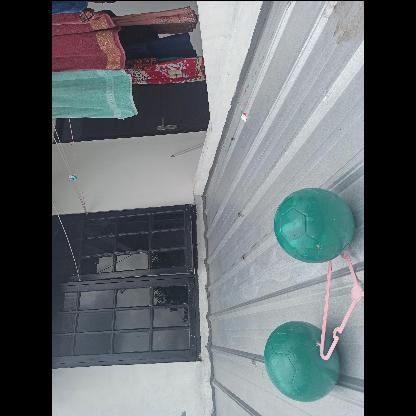green_ball: (260, 320, 342, 404), (274, 184, 356, 266)
